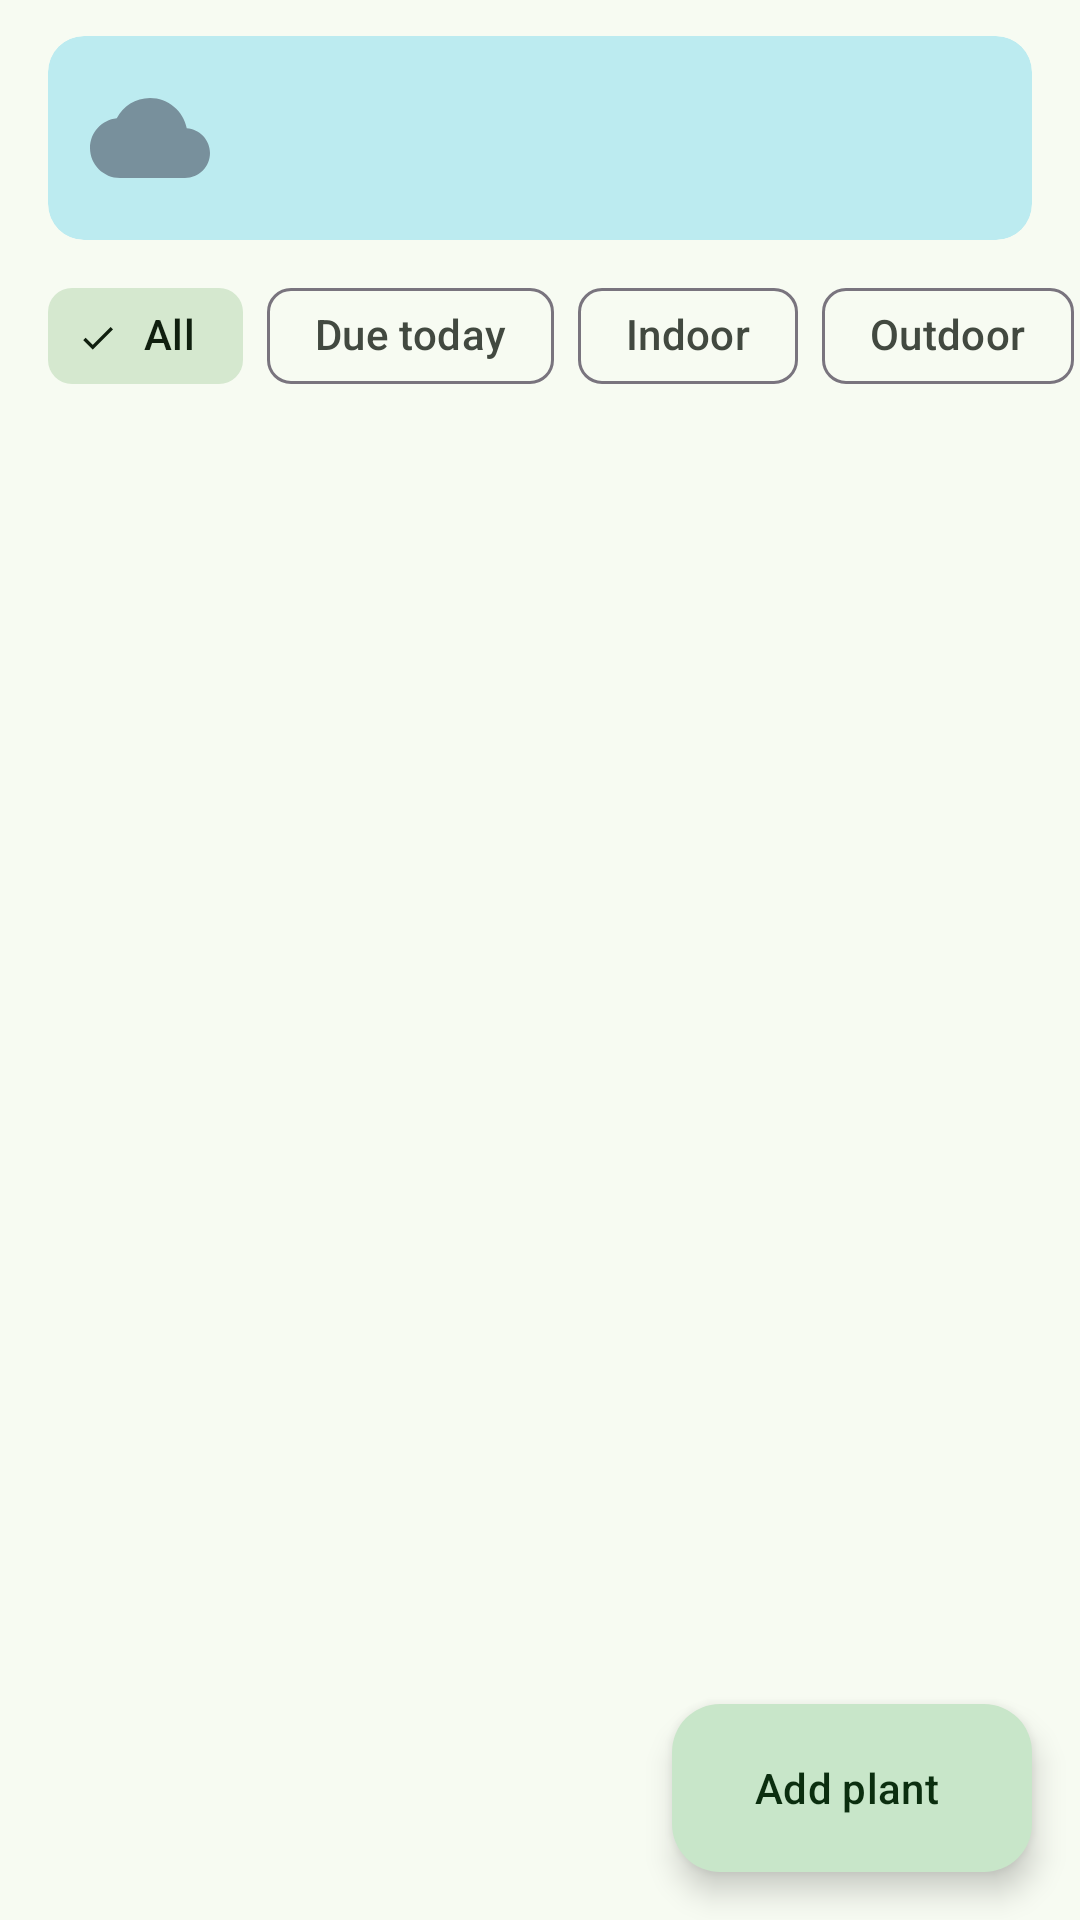

Icon bounding boxes for this 1080w x 1920h phone screenshot, format BBox(x1, y1, x2, y2):
weather cloudy: BBox(90, 98, 210, 178)
